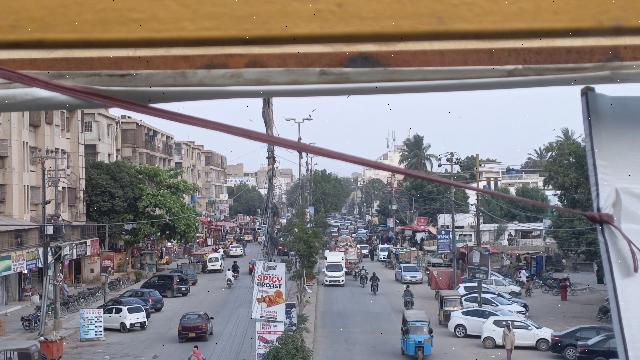Bike: (401, 296, 416, 311), (369, 280, 380, 296), (222, 278, 237, 289), (359, 273, 369, 289), (232, 271, 241, 281)
Bus: (332, 235, 360, 274)
Car: (482, 314, 552, 350), (549, 324, 610, 360), (446, 305, 503, 342), (140, 271, 192, 298), (175, 310, 215, 343), (104, 304, 149, 333), (574, 331, 617, 360), (122, 288, 166, 312), (97, 298, 151, 317), (393, 263, 424, 287)
Person: (498, 320, 519, 360), (401, 284, 414, 298), (369, 270, 381, 284), (224, 266, 235, 279), (359, 265, 368, 277), (232, 259, 240, 272)
Rickshaw: (398, 310, 434, 360), (435, 289, 462, 328)
Truck: (323, 251, 347, 287)
Van: (205, 253, 225, 274)
